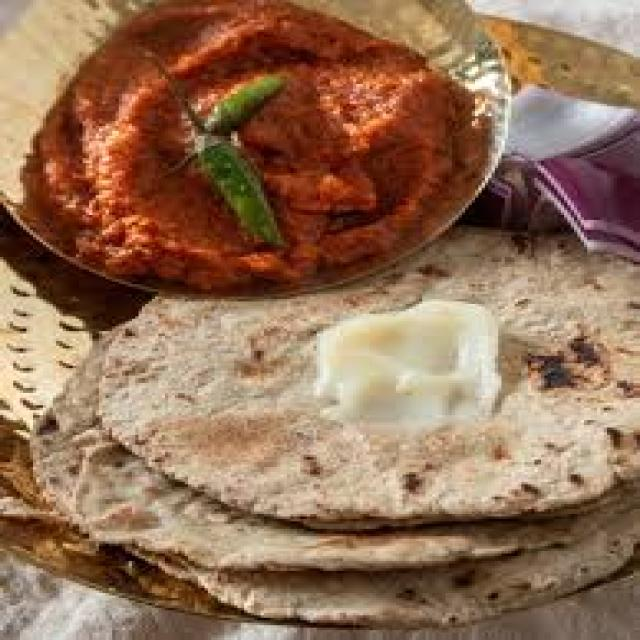ROTI: (102, 230, 637, 519), (33, 430, 587, 566), (188, 492, 637, 625)
